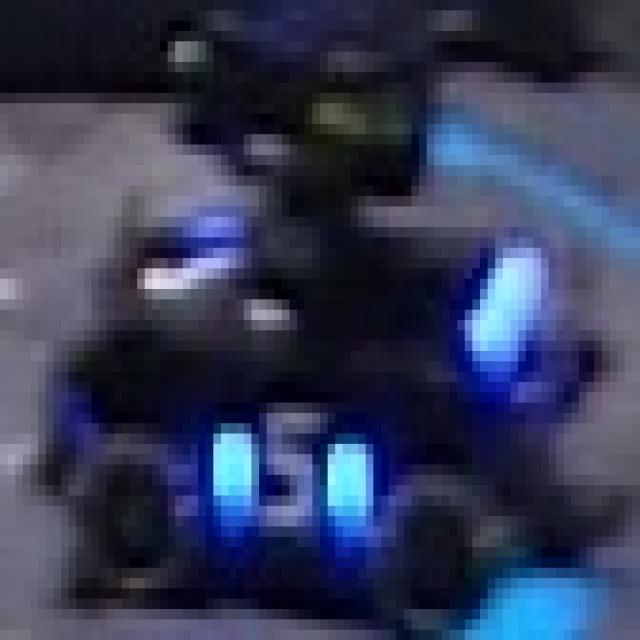B5: (206, 392, 381, 537)
